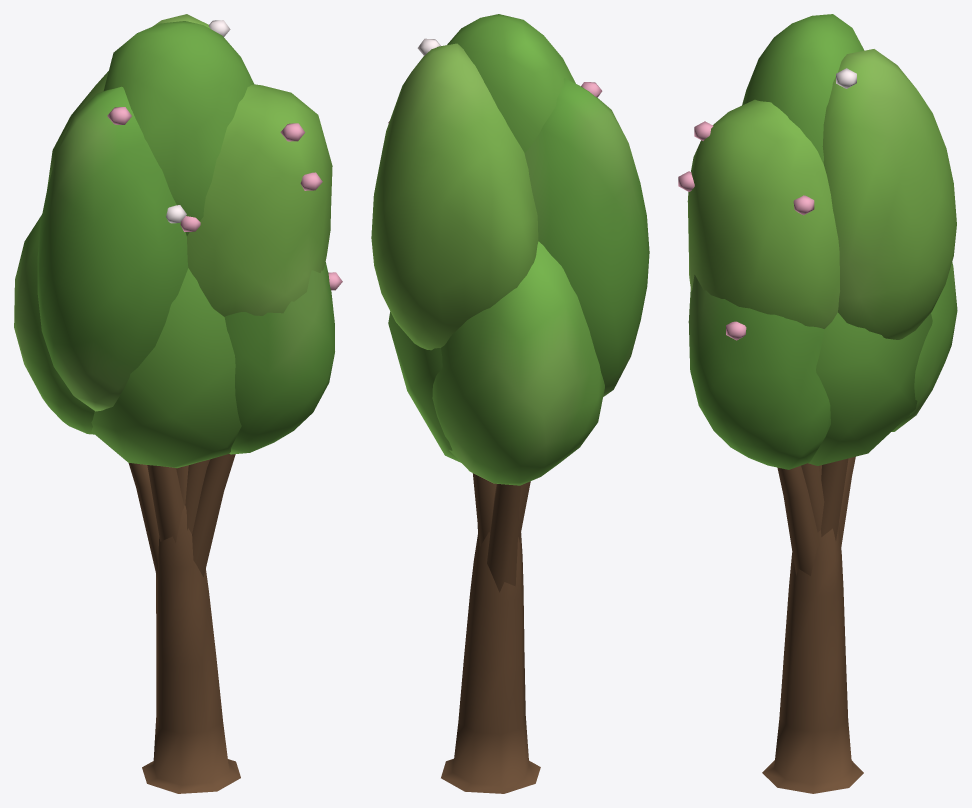
File: decor_feuillu_printemps_2.glb
3 views of the same model, side by side, from view 1: azimuth 30°, elevation 25°; view 2: azimuth 150°, elevation 25°; view 3: azimuth 270°, elevation 25° (orthographic).
Parts seen in each view (by area): view 1: feuillage, tronc, fleurs; view 2: feuillage, tronc; view 3: feuillage, tronc, fleurs.
Part boxes in pixels (x1,y1,x2,y2): feuillage: [14, 14, 334, 468]; tronc: [128, 454, 240, 793]; fleurs: [107, 20, 342, 290]; feuillage: [371, 14, 649, 485]; tronc: [441, 473, 540, 793]; feuillage: [687, 14, 957, 469]; tronc: [762, 456, 863, 793]; fleurs: [678, 68, 856, 340].
Size of the model in its own units: 0.2983 by 0.8387 by 0.2844.
